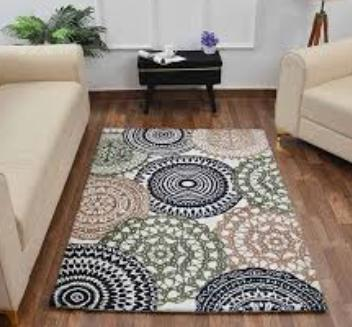carpet: (52, 130, 327, 312)
